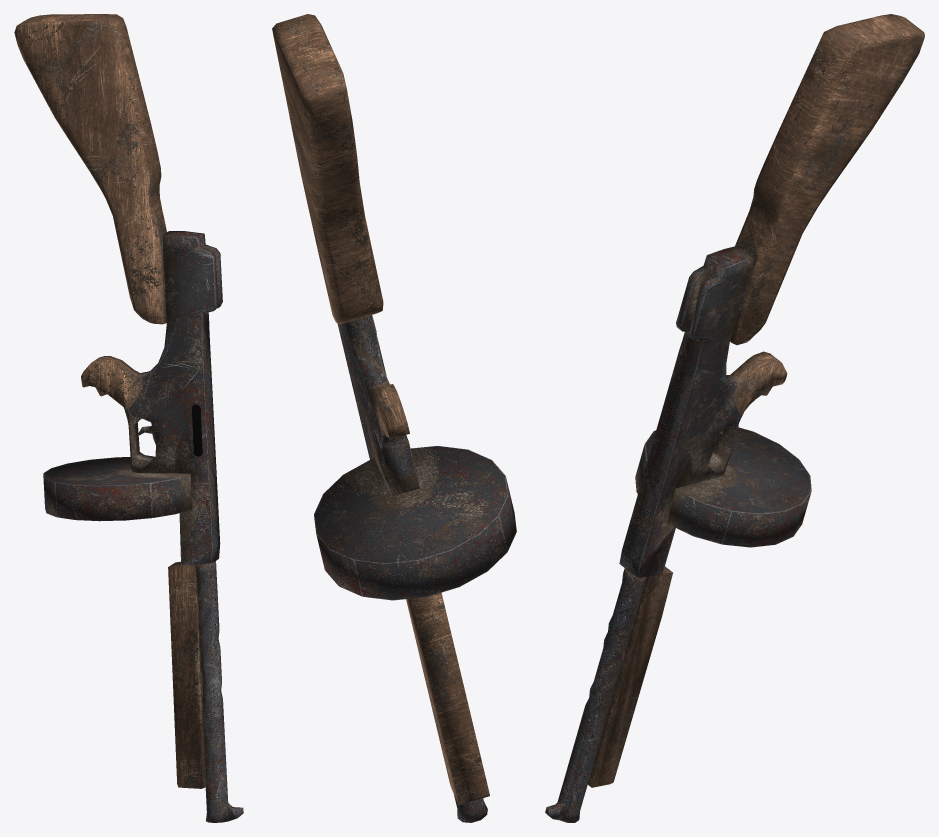
Rendered from Anim_idle_ametralladora_objetos.0047.obj.
The picture shows the model from 3 angles, left to right: view 1: azimuth 30°, elevation 25°; view 2: azimuth 150°, elevation 25°; view 3: azimuth 270°, elevation 25°; orthographic projection. The views are drawn at different scales.
Parts seen in each view (by area): view 1: Ametralladora1; view 2: Ametralladora1; view 3: Ametralladora1.
Part boxes in pixels (x1=…): Ametralladora1: x1=14, y1=14, x2=243, y2=822; Ametralladora1: x1=272, y1=14, x2=516, y2=822; Ametralladora1: x1=545, y1=14, x2=924, y2=822.
Bounding box in the file's own units: 1.35 × 5.79 × 2.51.
